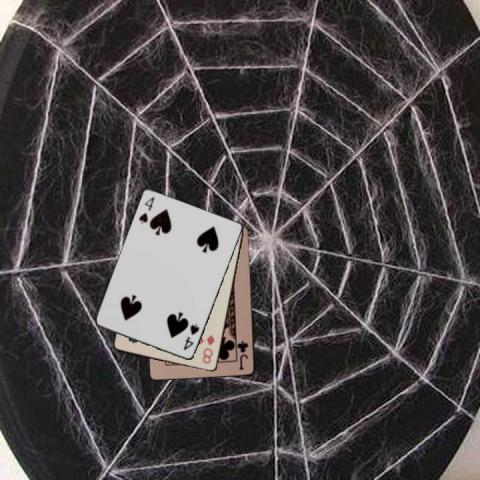4s: (136, 194, 156, 226), (180, 322, 200, 352)
8d: (200, 332, 216, 365)
Jc: (236, 339, 250, 371)
